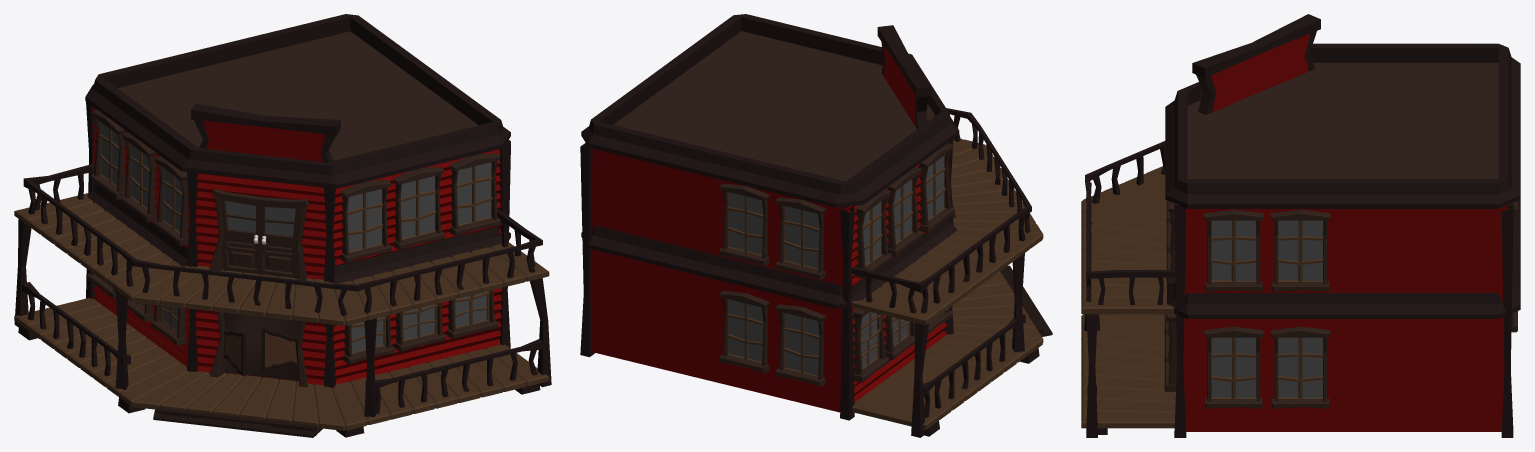
Rendered from Building10.fbx.
3 views of the same model, side by side, from view 1: azimuth 30°, elevation 25°; view 2: azimuth 150°, elevation 25°; view 3: azimuth 270°, elevation 25° (orthographic). The views are drawn at different scales.
Visible parts, largest first — view 1: Cube.330; view 2: Cube.330; view 3: Cube.330.
Boxes of the visible parts, left/top/right/bottom form: Cube.330: left=14, top=14, right=551, bottom=437; Cube.330: left=580, top=14, right=1052, bottom=437; Cube.330: left=1081, top=14, right=1520, bottom=437.
Bounding box in the file's own units: 1007 × 732 × 1007.
